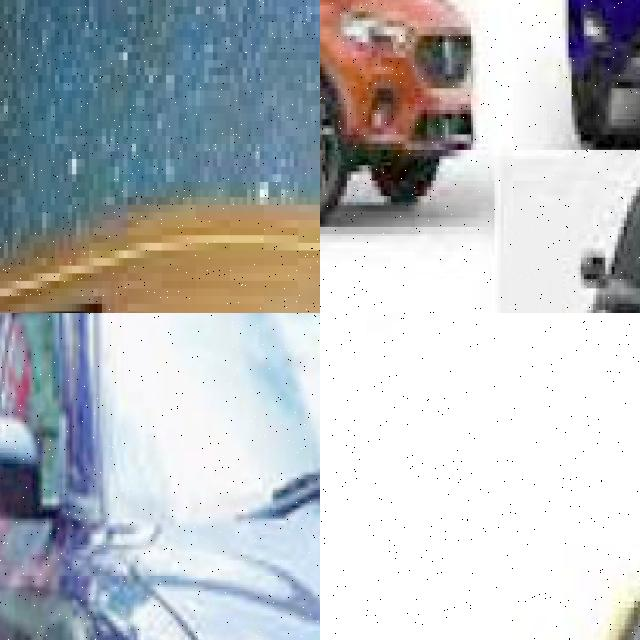car: (0, 313, 320, 640), (443, 420, 640, 640), (320, 0, 480, 242), (178, 90, 320, 313), (491, 104, 640, 313), (553, 0, 640, 150)
